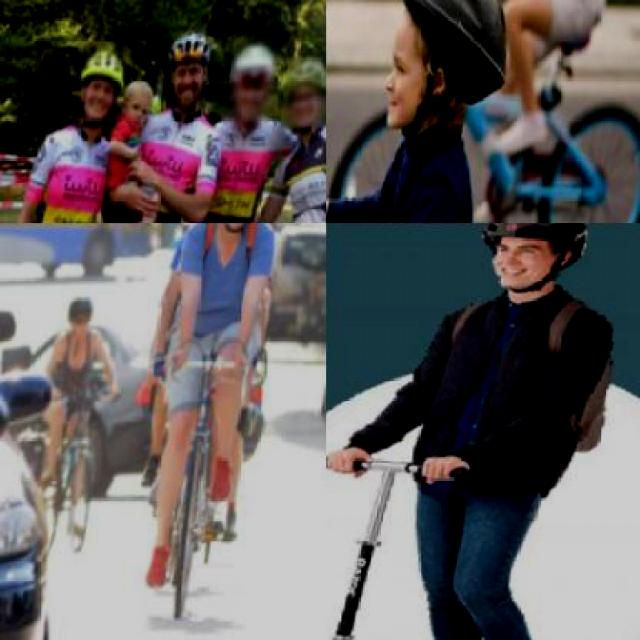With Helmet: (382, 0, 529, 154), (468, 223, 600, 315), (69, 41, 131, 138), (223, 41, 282, 138), (162, 28, 218, 120), (280, 57, 325, 140), (62, 289, 102, 345), (200, 223, 275, 245)
